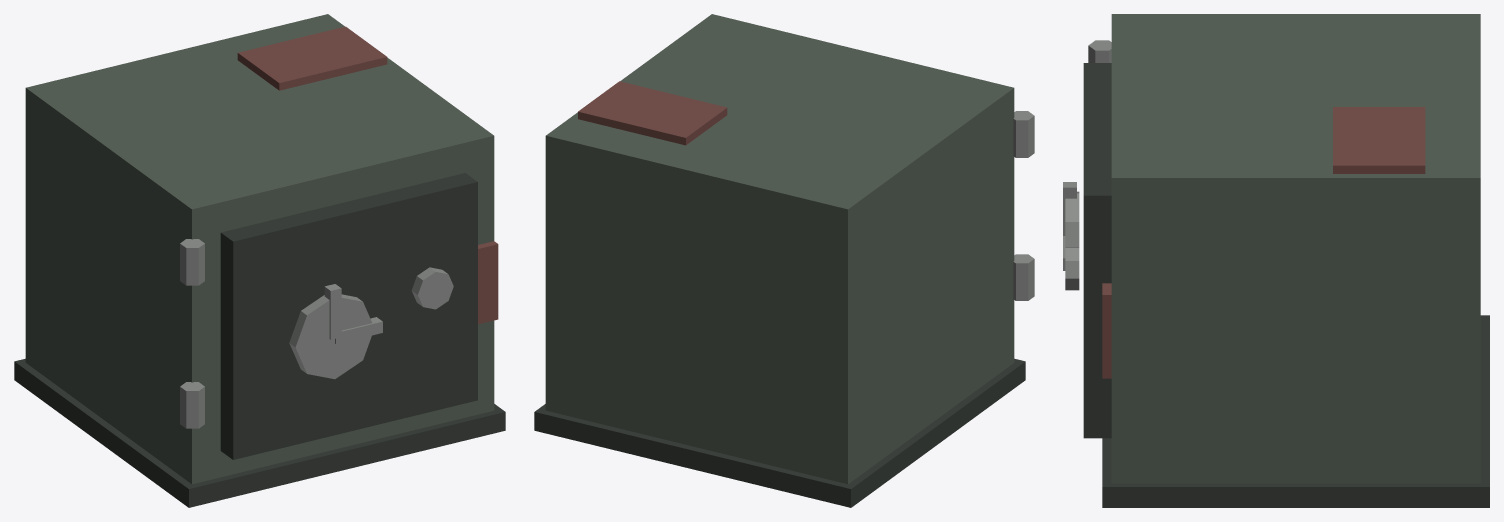
Rendered from ancient_safe_closed.obj.
The picture shows the model from 3 angles, left to right: view 1: azimuth 30°, elevation 25°; view 2: azimuth 150°, elevation 25°; view 3: azimuth 270°, elevation 25°; orthographic projection. The views are drawn at different scales.
Parts seen in each view (by area): view 1: ancient_safe_closed; view 2: ancient_safe_closed; view 3: ancient_safe_closed.
Part boxes in pixels (x1,y1,x2,y2): ancient_safe_closed: [14, 14, 505, 507]; ancient_safe_closed: [534, 14, 1034, 507]; ancient_safe_closed: [1063, 14, 1489, 507].
Bounding box in the file's own units: 0.896 × 0.8 × 0.925.
